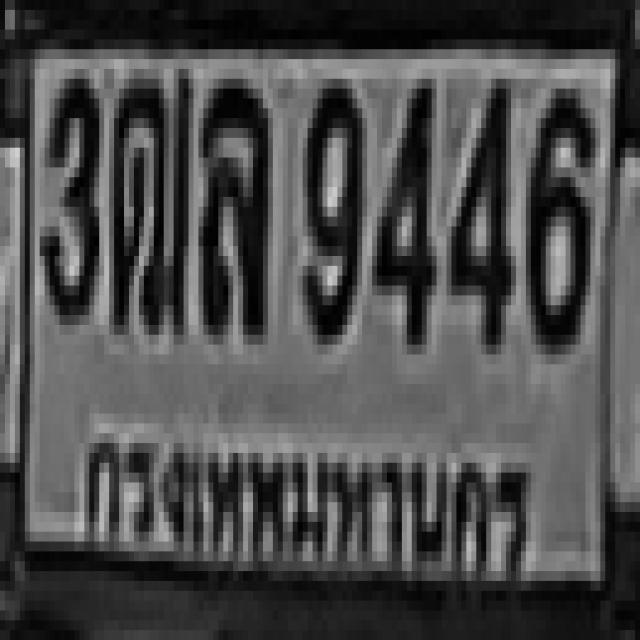27ThorPhuThao: (109, 69, 189, 325)
3: (37, 69, 97, 315)
4: (447, 69, 506, 345), (372, 74, 432, 340)
45LorLing: (198, 74, 263, 330)
6: (523, 88, 588, 344)
9: (298, 79, 357, 335)
Bangkok: (72, 402, 535, 599)
